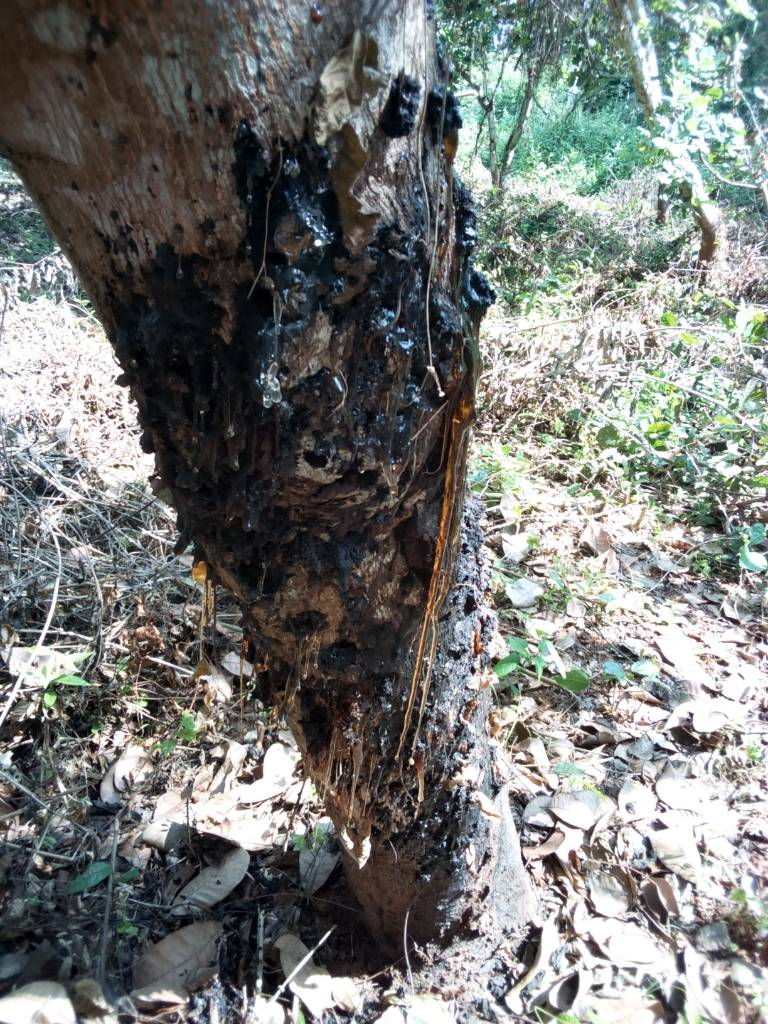Gommose: (111, 278, 480, 822)
